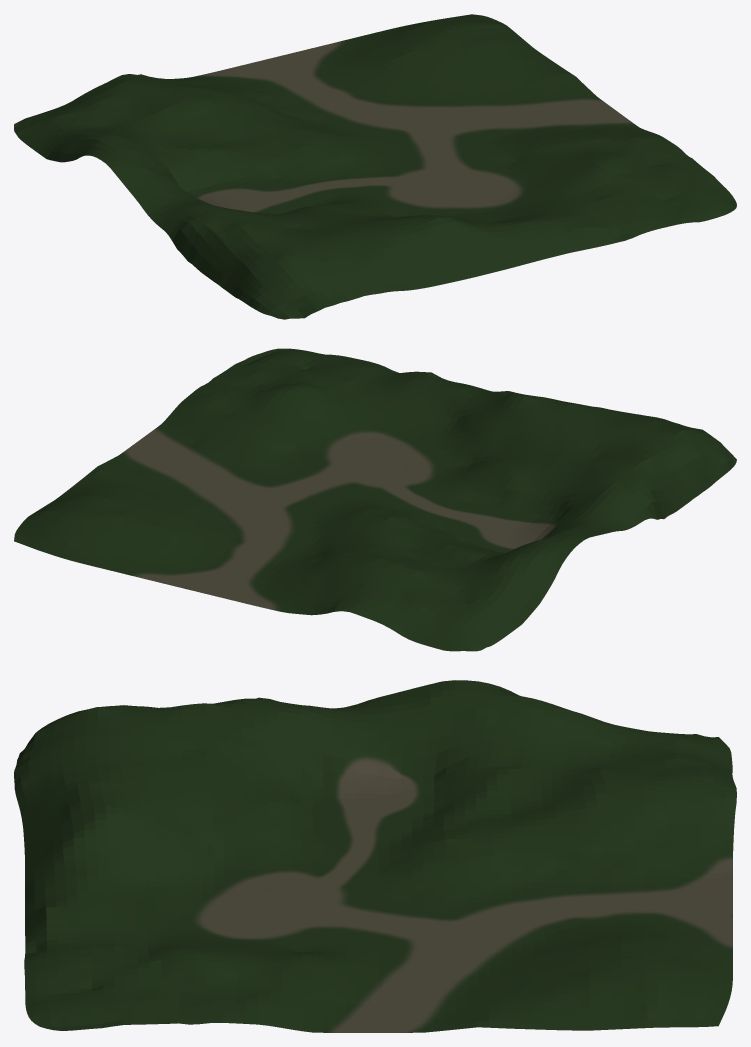
File: Campsite 2 V1.fbx
3 views of the same model, one above another, from view 1: azimuth 30°, elevation 25°; view 2: azimuth 150°, elevation 25°; view 3: azimuth 270°, elevation 25° (orthographic). The views are drawn at different scales.
Visible parts, largest first — view 1: Campsite 2; view 2: Campsite 2; view 3: Campsite 2.
Part boxes in pixels (x1,y1,x2,y2): Campsite 2: (14, 14, 736, 319); Campsite 2: (14, 348, 736, 651); Campsite 2: (14, 680, 736, 1032).
Bounding box in the file's own units: 25199 × 25538 × 2067.
